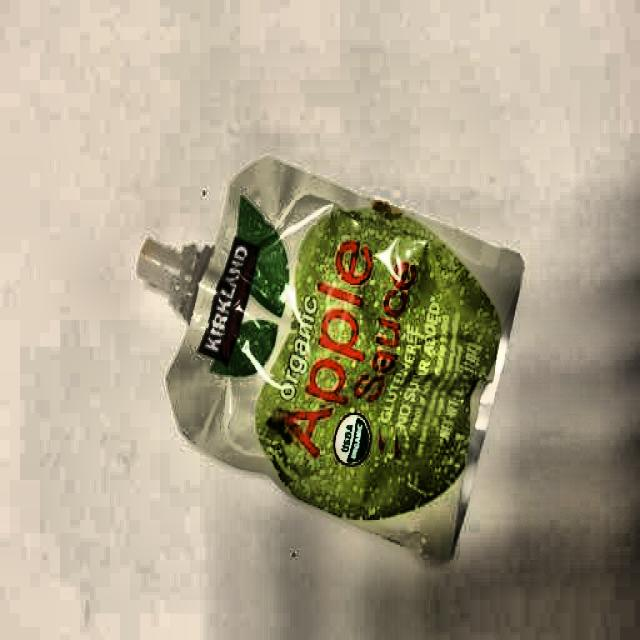trash: (139, 162, 486, 541)
